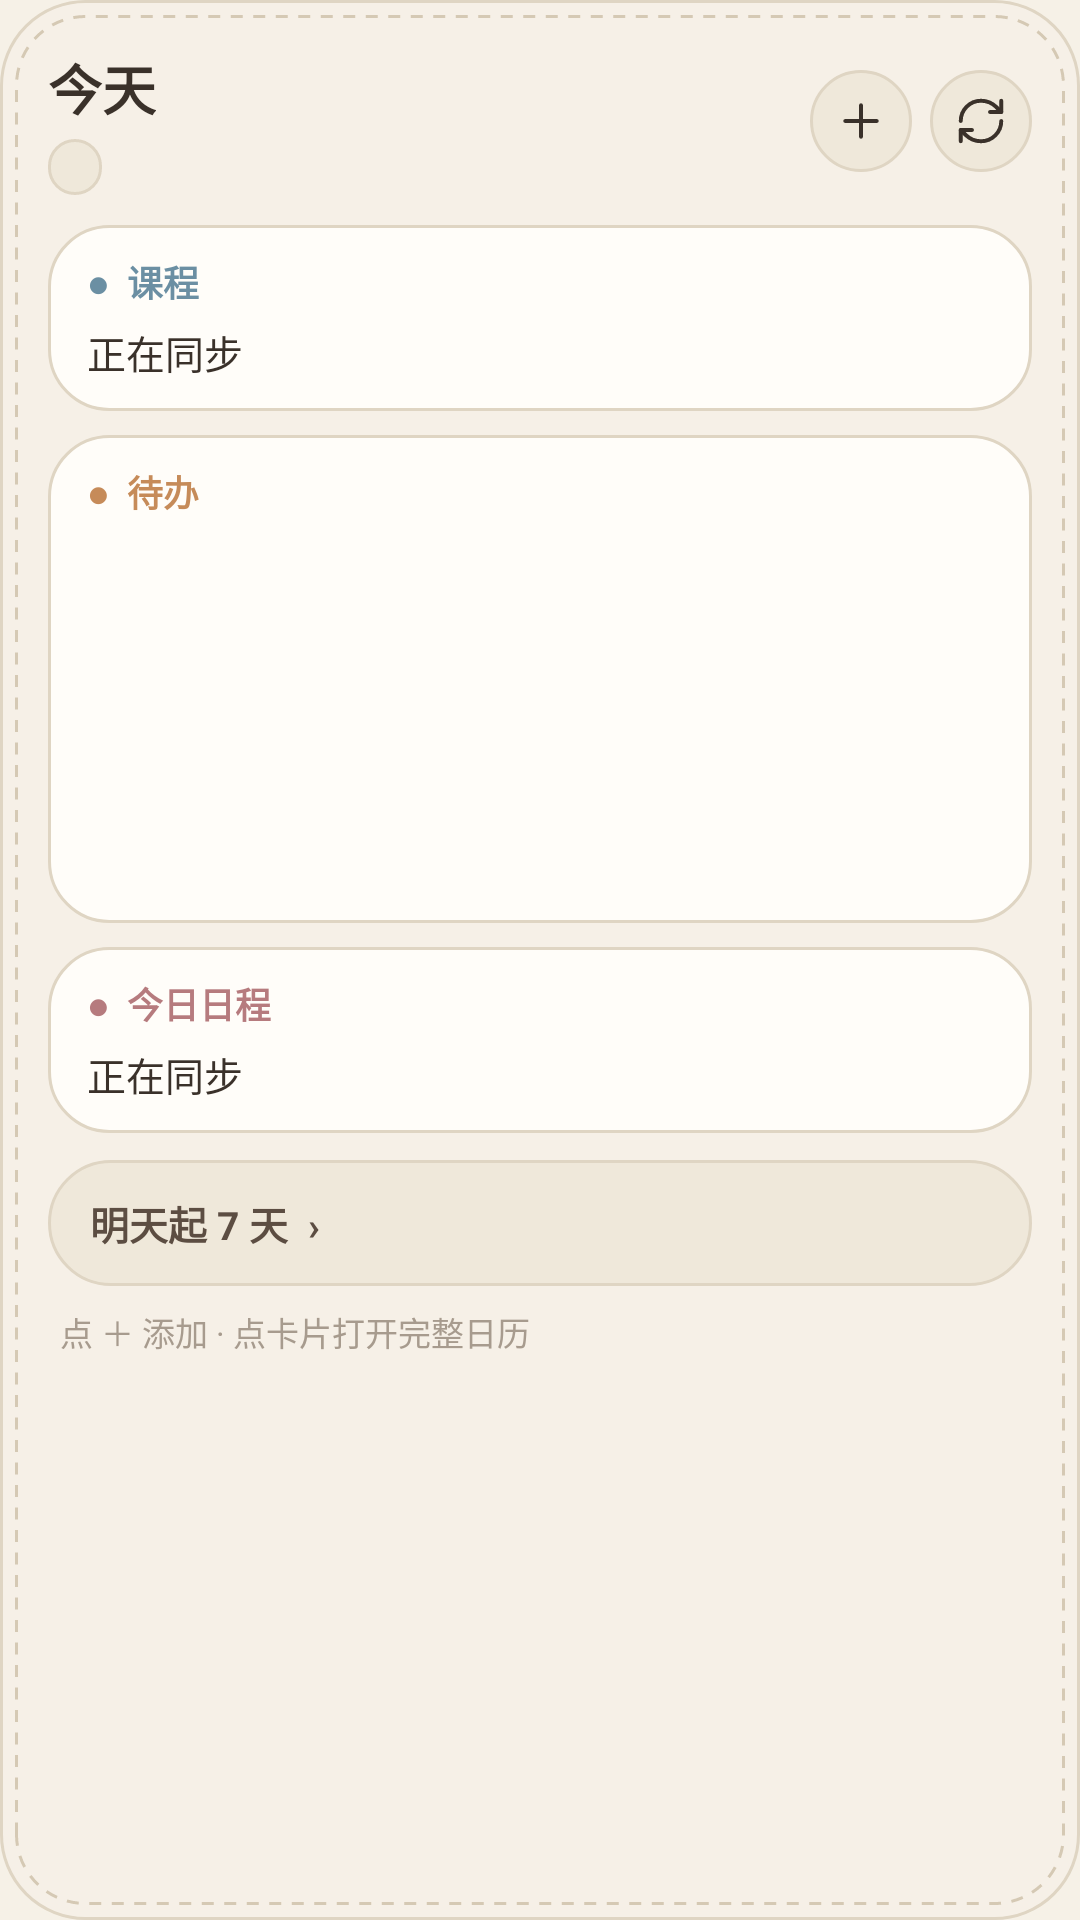

Icon bounding boxes for this 1080px x 1920px phone screenshot, format [x1=x1, y1=y1, x2=x2, y2=y2]:
刷新: [x1=930, y1=70, x2=1032, y2=172]
添加事项: [x1=810, y1=70, x2=912, y2=172]
